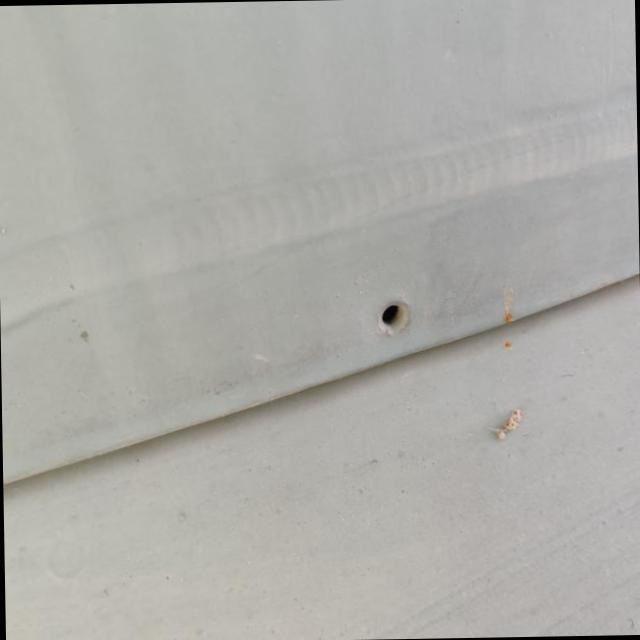Fastener Damage: (356, 275, 434, 362)
